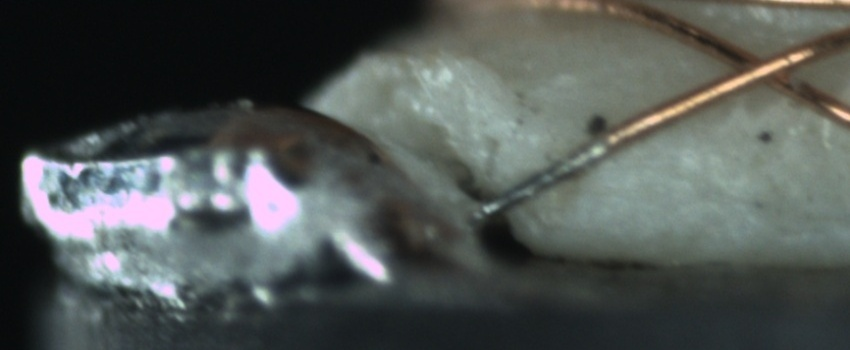CL: (709, 37, 816, 100)
TS: (481, 138, 613, 219)
